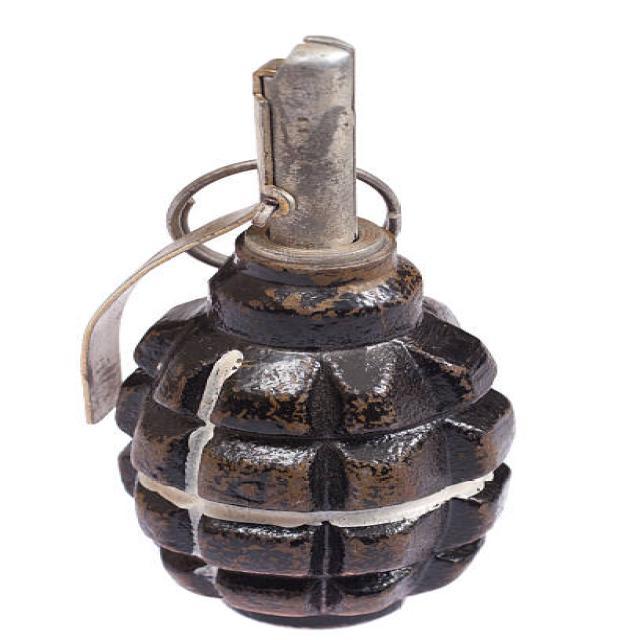grenade: (61, 26, 544, 640)
